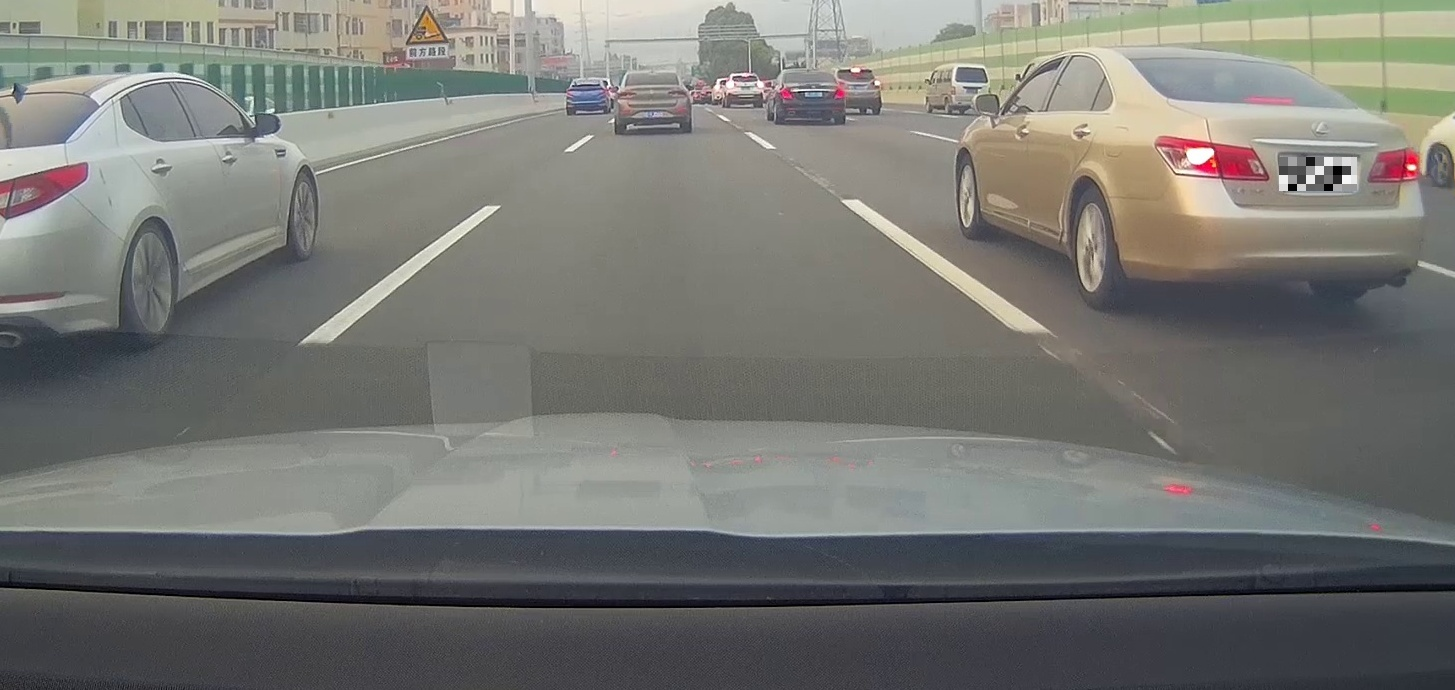L_light: (1154, 135, 1269, 181), (778, 87, 794, 100), (615, 91, 635, 100)
R_light: (1367, 145, 1421, 182), (668, 89, 689, 98), (832, 86, 845, 100)
T_light: (1246, 95, 1296, 106), (804, 71, 817, 75), (646, 73, 658, 77)
day-left: (1111, 47, 1424, 310)
day-no: (613, 71, 690, 134), (776, 68, 845, 124)
plate_1: (1279, 157, 1357, 191)
